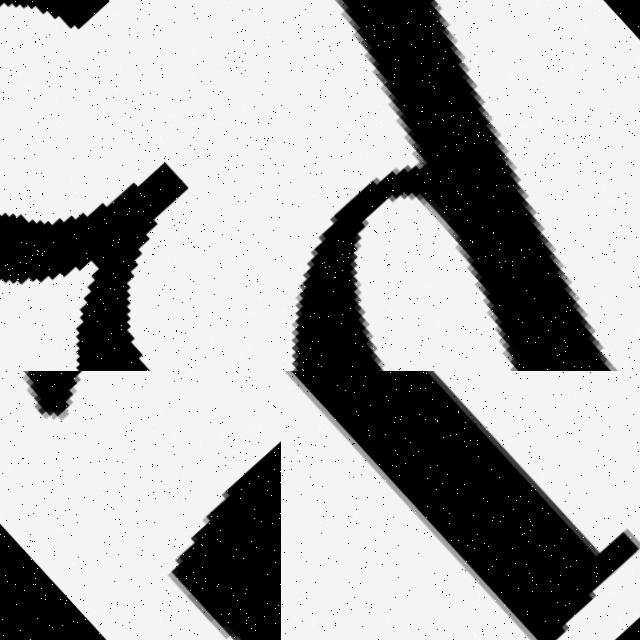3: (0, 0, 281, 371)
E: (164, 430, 281, 640)
L: (281, 371, 640, 640)
P: (285, 0, 624, 371)
